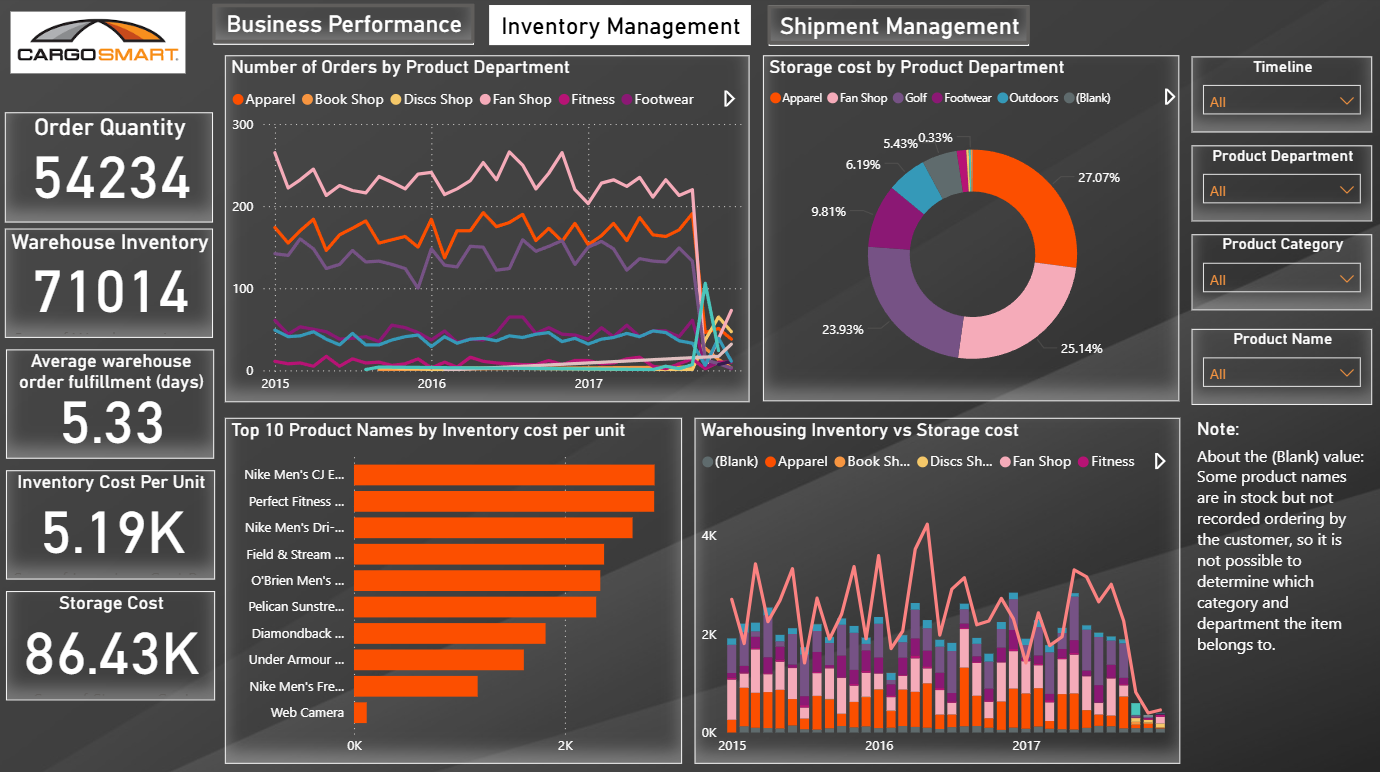

This screenshot's page, from the dashboard's own definition file:
{"tool":"powerbi","page":{"name":"Inventory Management","canvas":[1280,720],"ordinal":1},"visuals":[{"type":"textbox","box":[198.8,7,240,37.5],"z":0},{"type":"textbox","box":[453.7,8.1,241.3,36.6],"z":2000},{"type":"textbox","box":[711.4,8.6,240.5,37.4],"z":3000},{"type":"slicer","title":"Product Name","fields":{"Values":["inventory.Product Name"]},"box":[1101.6,306.7,167,70.6],"z":4000},{"type":"lineStackedColumnComboChart","title":"Warehousing Inventory vs Storage cost ","fields":{"Category":["inventory.Year Month.Variation.Date Hierarchy.Year"],"Y":["Sum(inventory.Warehouse Inventory)"],"Series":["product.Product Department"],"Y2":["Sum(inventory.Storage Cost)"]},"box":[642.6,388.8,447.8,319.7],"z":5000},{"type":"slicer","title":"Product Category","fields":{"Values":["product.Product Category"]},"box":[1101.6,219.7,167,70.6],"z":6000},{"type":"clusteredBarChart","title":"Top 10 Product Names by Inventory cost per unit","fields":{"Category":["product.Product Name"],"Y":["Count(order.Order ID)"]},"box":[209.2,388.8,421.9,319.7],"z":7000},{"type":"donutChart","title":"Storage cost by Product Department","fields":{"Y":["Sum(inventory.Storage Cost)"],"Category":["product.Product Department"]},"box":[706,54.7,384.5,319.7],"z":8000},{"type":"slicer","title":"Timeline","fields":{"Values":["Date.Date.Variation.Date Hierarchy.Year","Date.Date.Variation.Date Hierarchy.Quarter","Date.Date.Variation.Date Hierarchy.Month"]},"box":[1101.6,55.5,167,70.6],"z":9000},{"type":"lineChart","title":"Number of Orders by Product Department","fields":{"Category":["Date.Date.Variation.Date Hierarchy.Year","Date.Date.Variation.Date Hierarchy.Quarter","Date.Date.Variation.Date Hierarchy.Month"],"Y":["Count(order.Order ID)"],"Series":["product.Product Department"]},"box":[208.9,54.3,484.3,320],"z":10000},{"type":"card","title":"Order Quantity","fields":{"Values":["Sum(order.Order Quantity)"]},"box":[6.4,107.2,192.5,101.8],"z":11000},{"type":"card","title":"Warehouse Inventory","fields":{"Values":["Sum(inventory.Warehouse Inventory)"]},"box":[6.4,214.7,192.5,101.2],"z":12000},{"type":"card","title":"Average warehouse order fulfillment (days)","fields":{"Values":["Avg(fulfillment.Warehouse Order Fulfillment (days))"]},"box":[7.7,326,192.5,101.2],"z":13000},{"type":"card","title":"Inventory Cost Per Unit","fields":{"Values":["Sum(inventory.Inventory Cost Per Unit)"]},"box":[7.2,437.8,193,100.8],"z":14000},{"type":"card","title":"Storage Cost","fields":{"Values":["Sum(inventory.Storage Cost)"]},"box":[7.2,548.6,193,100.8],"z":15000},{"type":"slicer","title":"Product Department","fields":{"Values":["product.Product Department"]},"box":[1101.6,138.2,167,70.6],"z":16000},{"type":"textbox","title":"Note:","box":[1101.3,389.1,167.7,320.3],"z":17000},{"type":"actionButton","box":[197.3,7.2,241.9,36],"z":18000},{"type":"actionButton","box":[709.9,8.6,241.9,36],"z":19000},{"type":"image","box":[6.3,7.4,171.5,70.5],"z":19001}]}

Visuals, with their boxes in screenshot pixels (x1, y1, x2, y2), scaled from the page's 1280x720 canvas onto the 1380x772 screenshot:
textbox: [left=214, top=8, right=473, bottom=48]
textbox: [left=489, top=9, right=749, bottom=48]
textbox: [left=767, top=9, right=1026, bottom=49]
"Product Name" slicer: [left=1188, top=329, right=1368, bottom=405]
"Warehousing Inventory vs Storage cost " lineStackedColumnComboChart: [left=693, top=417, right=1176, bottom=760]
"Product Category" slicer: [left=1188, top=236, right=1368, bottom=311]
"Top 10 Product Names by Inventory cost per unit" clusteredBarChart: [left=226, top=417, right=680, bottom=760]
"Storage cost by Product Department" donutChart: [left=761, top=59, right=1176, bottom=401]
"Timeline" slicer: [left=1188, top=60, right=1368, bottom=135]
"Number of Orders by Product Department" lineChart: [left=225, top=58, right=747, bottom=401]
"Order Quantity" card: [left=7, top=115, right=214, bottom=224]
"Warehouse Inventory" card: [left=7, top=230, right=214, bottom=339]
"Average warehouse order fulfillment (days)" card: [left=8, top=350, right=216, bottom=458]
"Inventory Cost Per Unit" card: [left=8, top=469, right=216, bottom=577]
"Storage Cost" card: [left=8, top=588, right=216, bottom=696]
"Product Department" slicer: [left=1188, top=148, right=1368, bottom=224]
"Note:" textbox: [left=1187, top=417, right=1368, bottom=761]
actionButton: [left=213, top=8, right=474, bottom=46]
actionButton: [left=765, top=9, right=1026, bottom=48]
image: [left=7, top=8, right=192, bottom=84]
